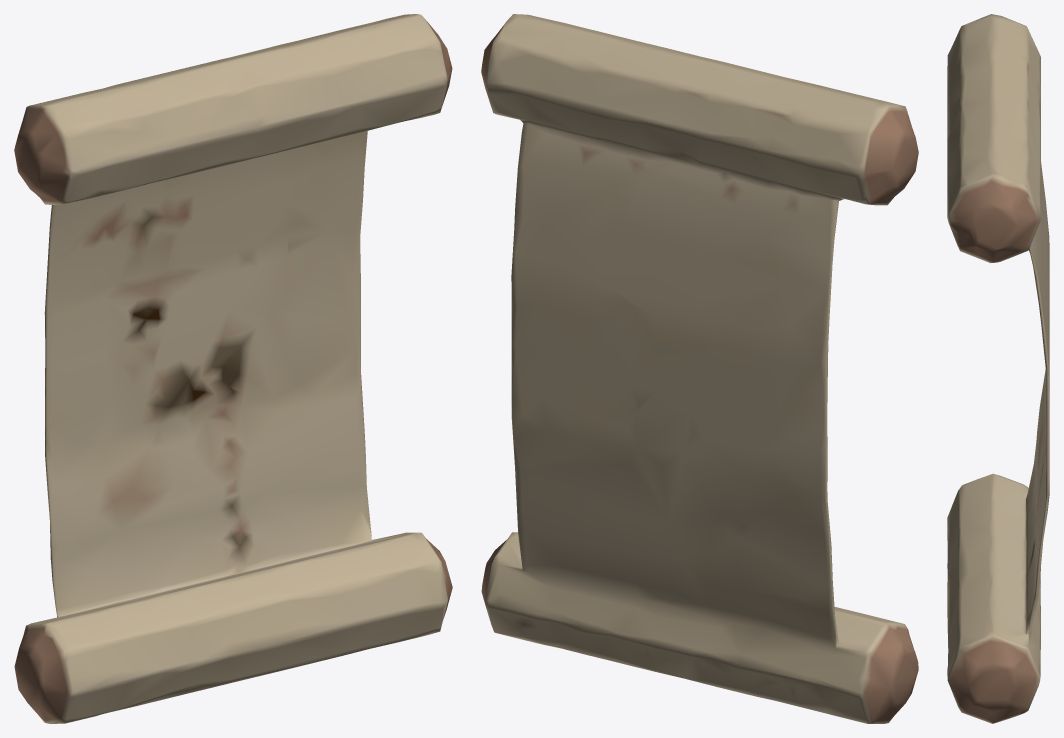
Rendered from gen3d-paper-scroll-lod0.glb.
3 renders of one model, left to right at view 1: azimuth 30°, elevation 25°; view 2: azimuth 150°, elevation 25°; view 3: azimuth 270°, elevation 25°, orthographic. The views are drawn at different scales.
Visible parts, largest first — view 1: part_0; view 2: part_0; view 3: part_0.
Part boxes in pixels (x1=…): part_0: x1=14, y1=14, x2=452, y2=723; part_0: x1=481, y1=14, x2=918, y2=723; part_0: x1=947, y1=14, x2=1049, y2=723.
Size of the model in its own units: 0.6988 by 0.9999 by 0.1693.
